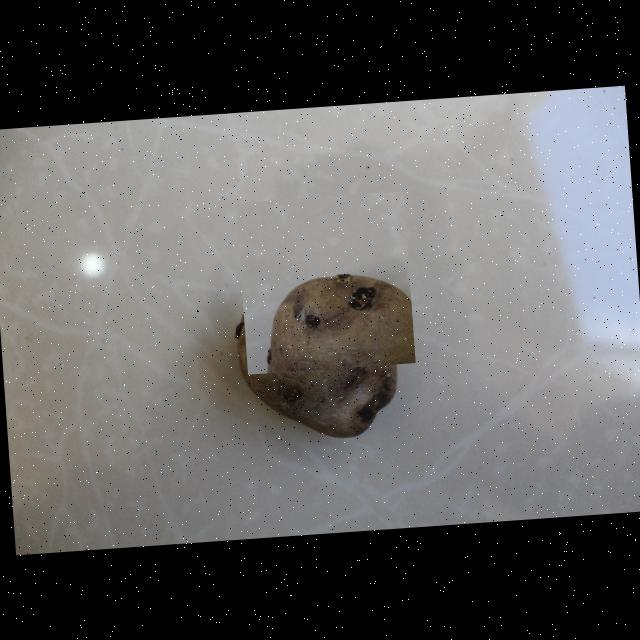Diseased-fungal potato: (235, 191, 416, 374)
